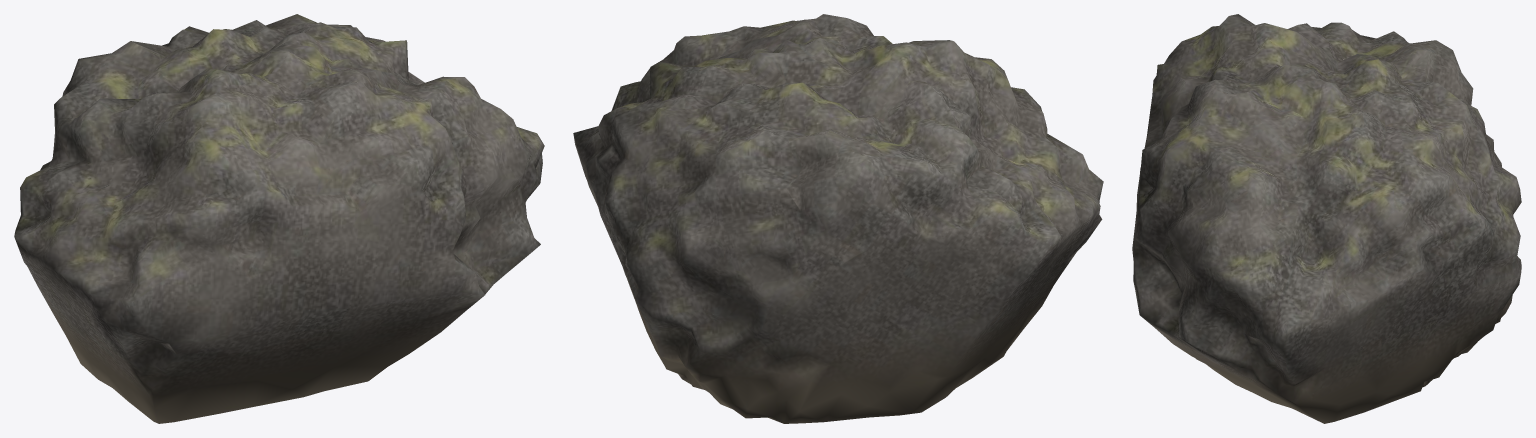
Rendered from rock_c.glb.
3 views of the same model, side by side, from view 1: azimuth 30°, elevation 25°; view 2: azimuth 150°, elevation 25°; view 3: azimuth 270°, elevation 25° (orthographic). The views are drawn at different scales.
Visible parts, largest first — view 1: rock_c; view 2: rock_c; view 3: rock_c.
Part boxes in pixels (box(x1,y1,x2,y2)): rock_c: box(14, 14, 544, 423); rock_c: box(573, 14, 1103, 423); rock_c: box(1132, 14, 1521, 423).
Bounding box in the file's own units: 2.38 × 1.44 × 1.68.
Materials: 1 (1 with a texture image).
